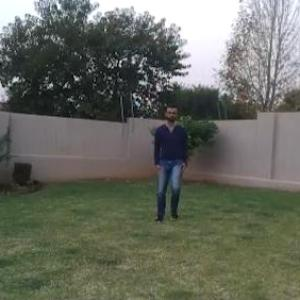follow: (150, 94, 189, 226)
